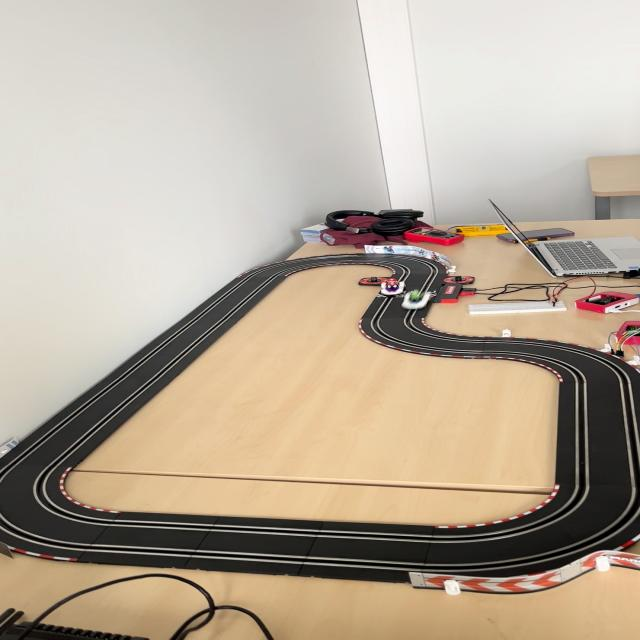mario: (378, 278, 407, 297)
yoshi: (400, 289, 436, 311)
